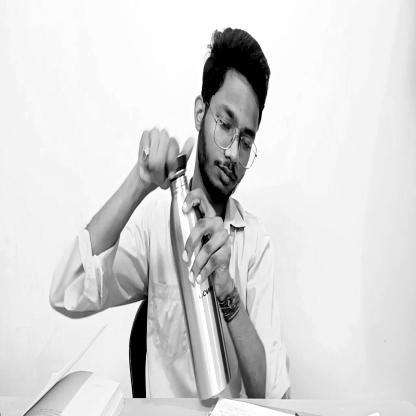Distracted: (192, 29, 276, 211)
